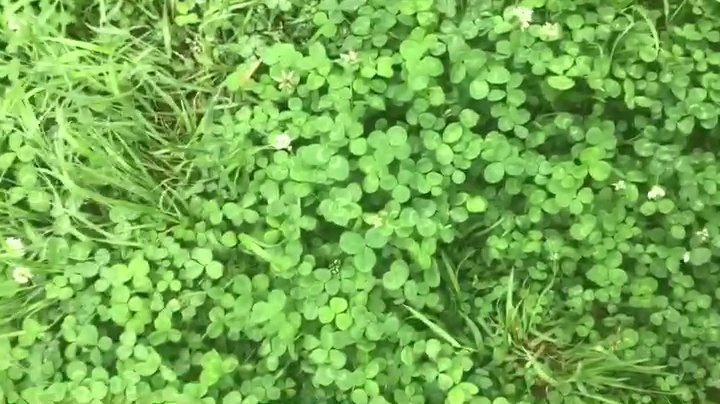4-clover: (367, 123, 412, 166)
